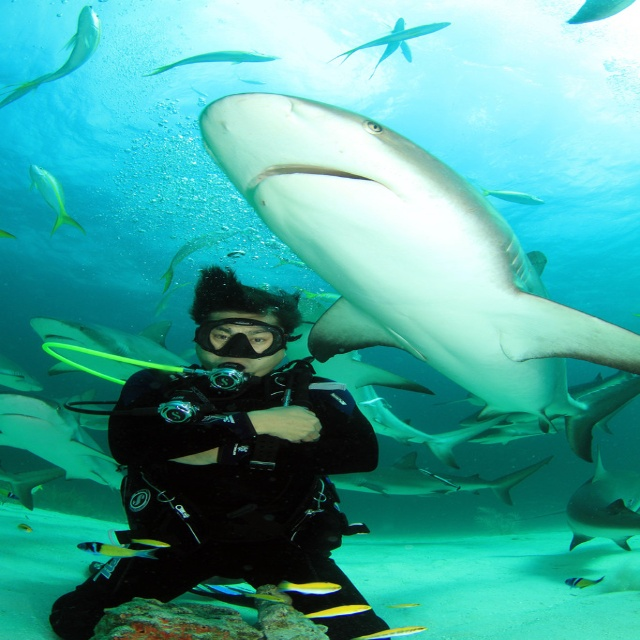Shark: (202, 88, 639, 459)
